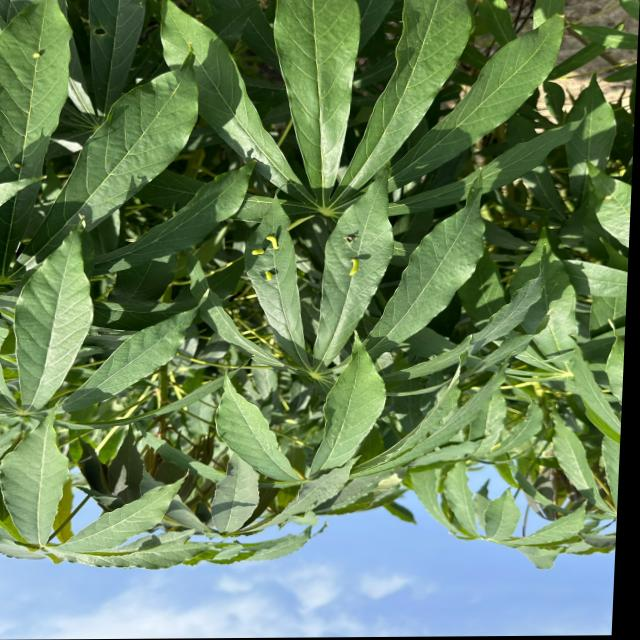Mosca: (248, 233, 280, 259), (23, 43, 46, 66), (347, 254, 363, 280), (261, 269, 279, 289)
